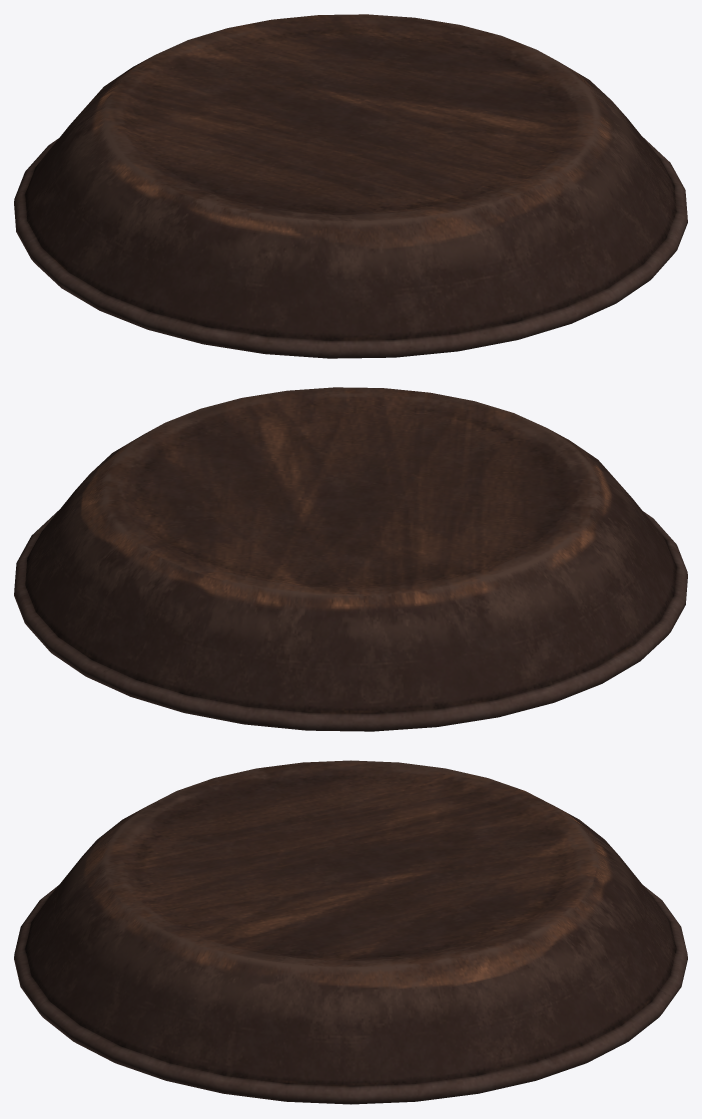
Rendered from basin.glb.
3 renders of one model, top to bottom at view 1: azimuth 30°, elevation 25°; view 2: azimuth 150°, elevation 25°; view 3: azimuth 270°, elevation 25°, orthographic.
Parts seen in each view (by area): view 1: SM_Basin; view 2: SM_Basin; view 3: SM_Basin.
Boxes of the visible parts, <box> form: SM_Basin: <box>14,14,687,358</box>; SM_Basin: <box>14,387,687,731</box>; SM_Basin: <box>14,760,687,1104</box>.
Size of the model in its own units: 0.6927 by 0.112 by 0.6927.
1 material, 1 textured.
